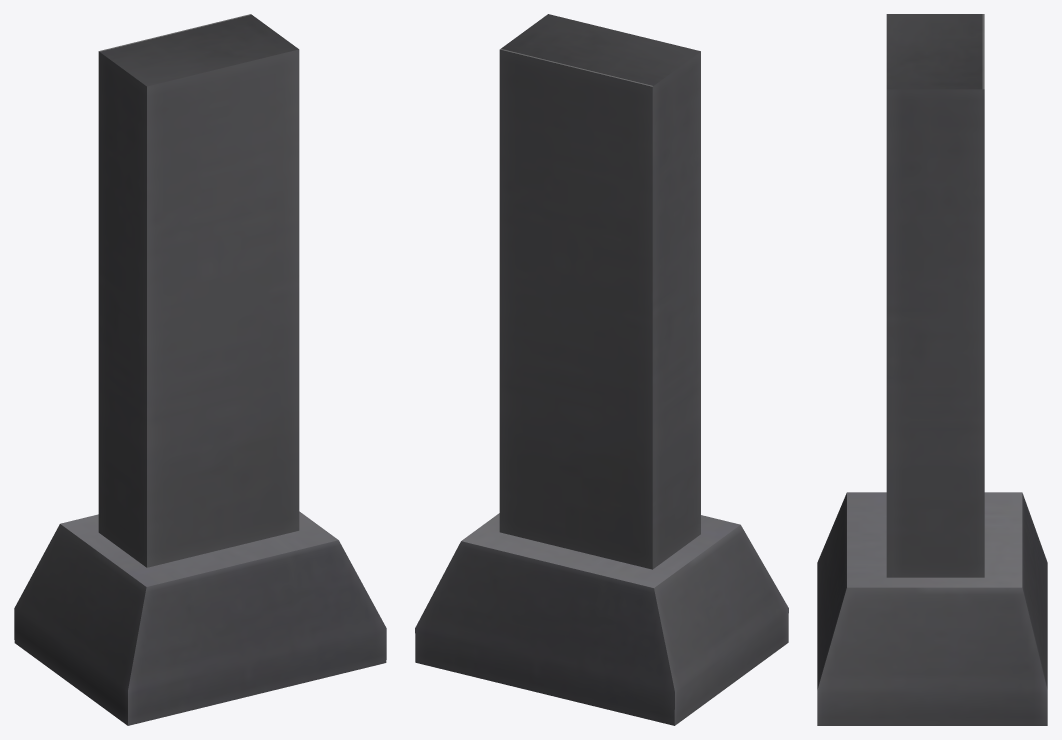
Rendered from Kitchen_Chimney_2.fbx.
The picture shows the model from 3 angles, left to right: view 1: azimuth 30°, elevation 25°; view 2: azimuth 150°, elevation 25°; view 3: azimuth 270°, elevation 25°; orthographic projection.
Parts seen in each view (by area): view 1: polySurface1537; view 2: polySurface1537; view 3: polySurface1537.
Part boxes in pixels (x1,y1,x2,y2): polySurface1537: [14, 14, 386, 725]; polySurface1537: [415, 14, 788, 725]; polySurface1537: [817, 14, 1047, 725].
Size of the model in its own units: 0.9015 by 2 by 0.6851.
